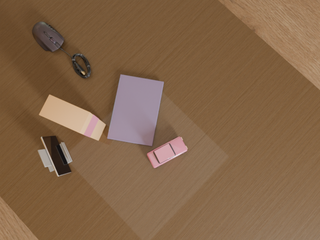book: (107, 75, 164, 146)
box: (39, 95, 106, 140)
mouse: (32, 22, 64, 52)
phone: (41, 136, 71, 176)
toy_car: (147, 137, 187, 168)
